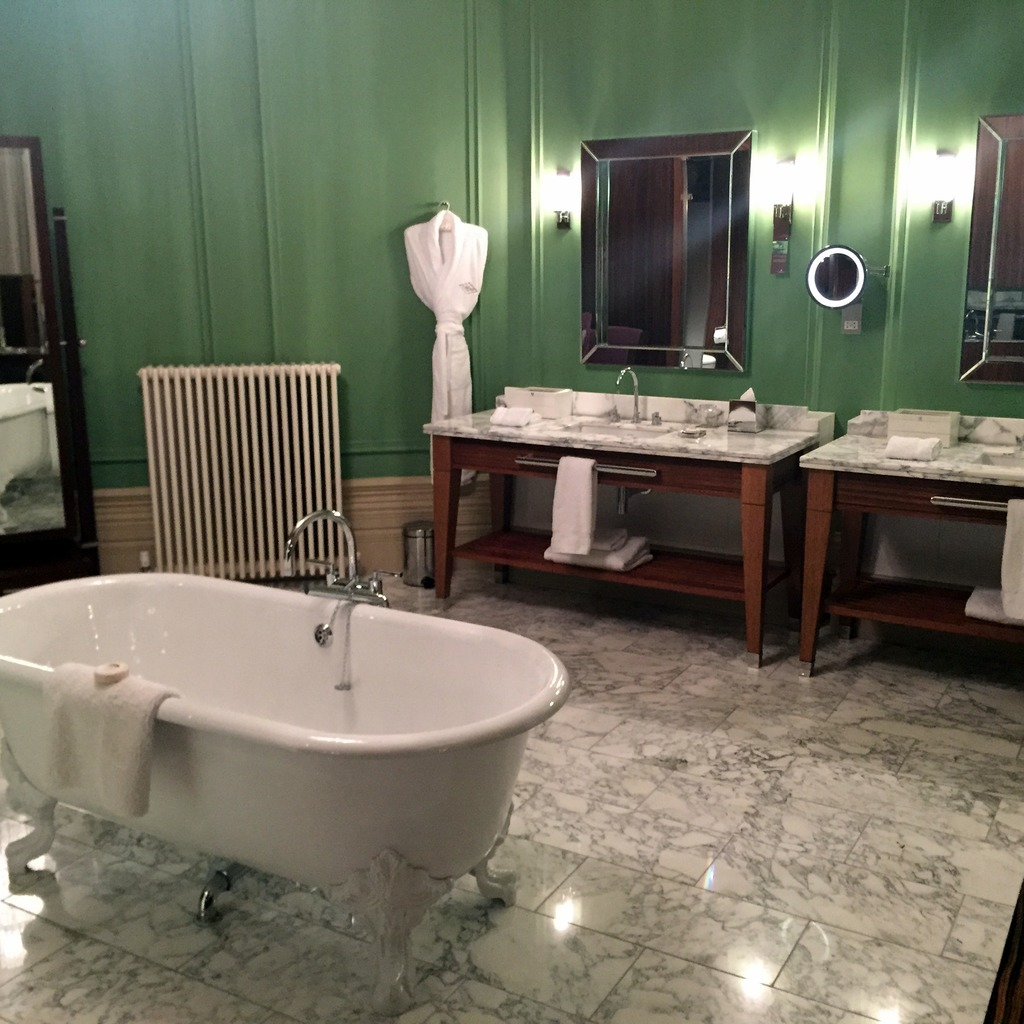tap: (275, 507, 366, 591), (614, 359, 640, 425)
